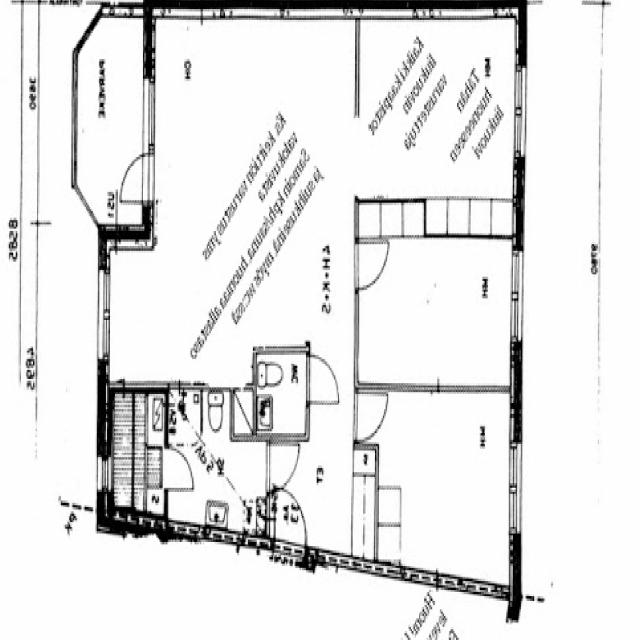door: (275, 490, 310, 560), (112, 153, 154, 201), (353, 394, 386, 442), (307, 355, 340, 403), (267, 444, 300, 492), (353, 242, 386, 289), (164, 448, 193, 489)
